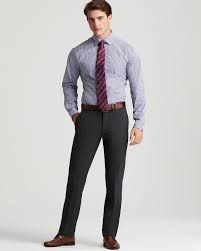F_belt: (74, 100, 133, 115)
F_dress pants: (53, 109, 133, 239)
F_shirt: (55, 33, 153, 132)
F_tie: (93, 38, 116, 113)
